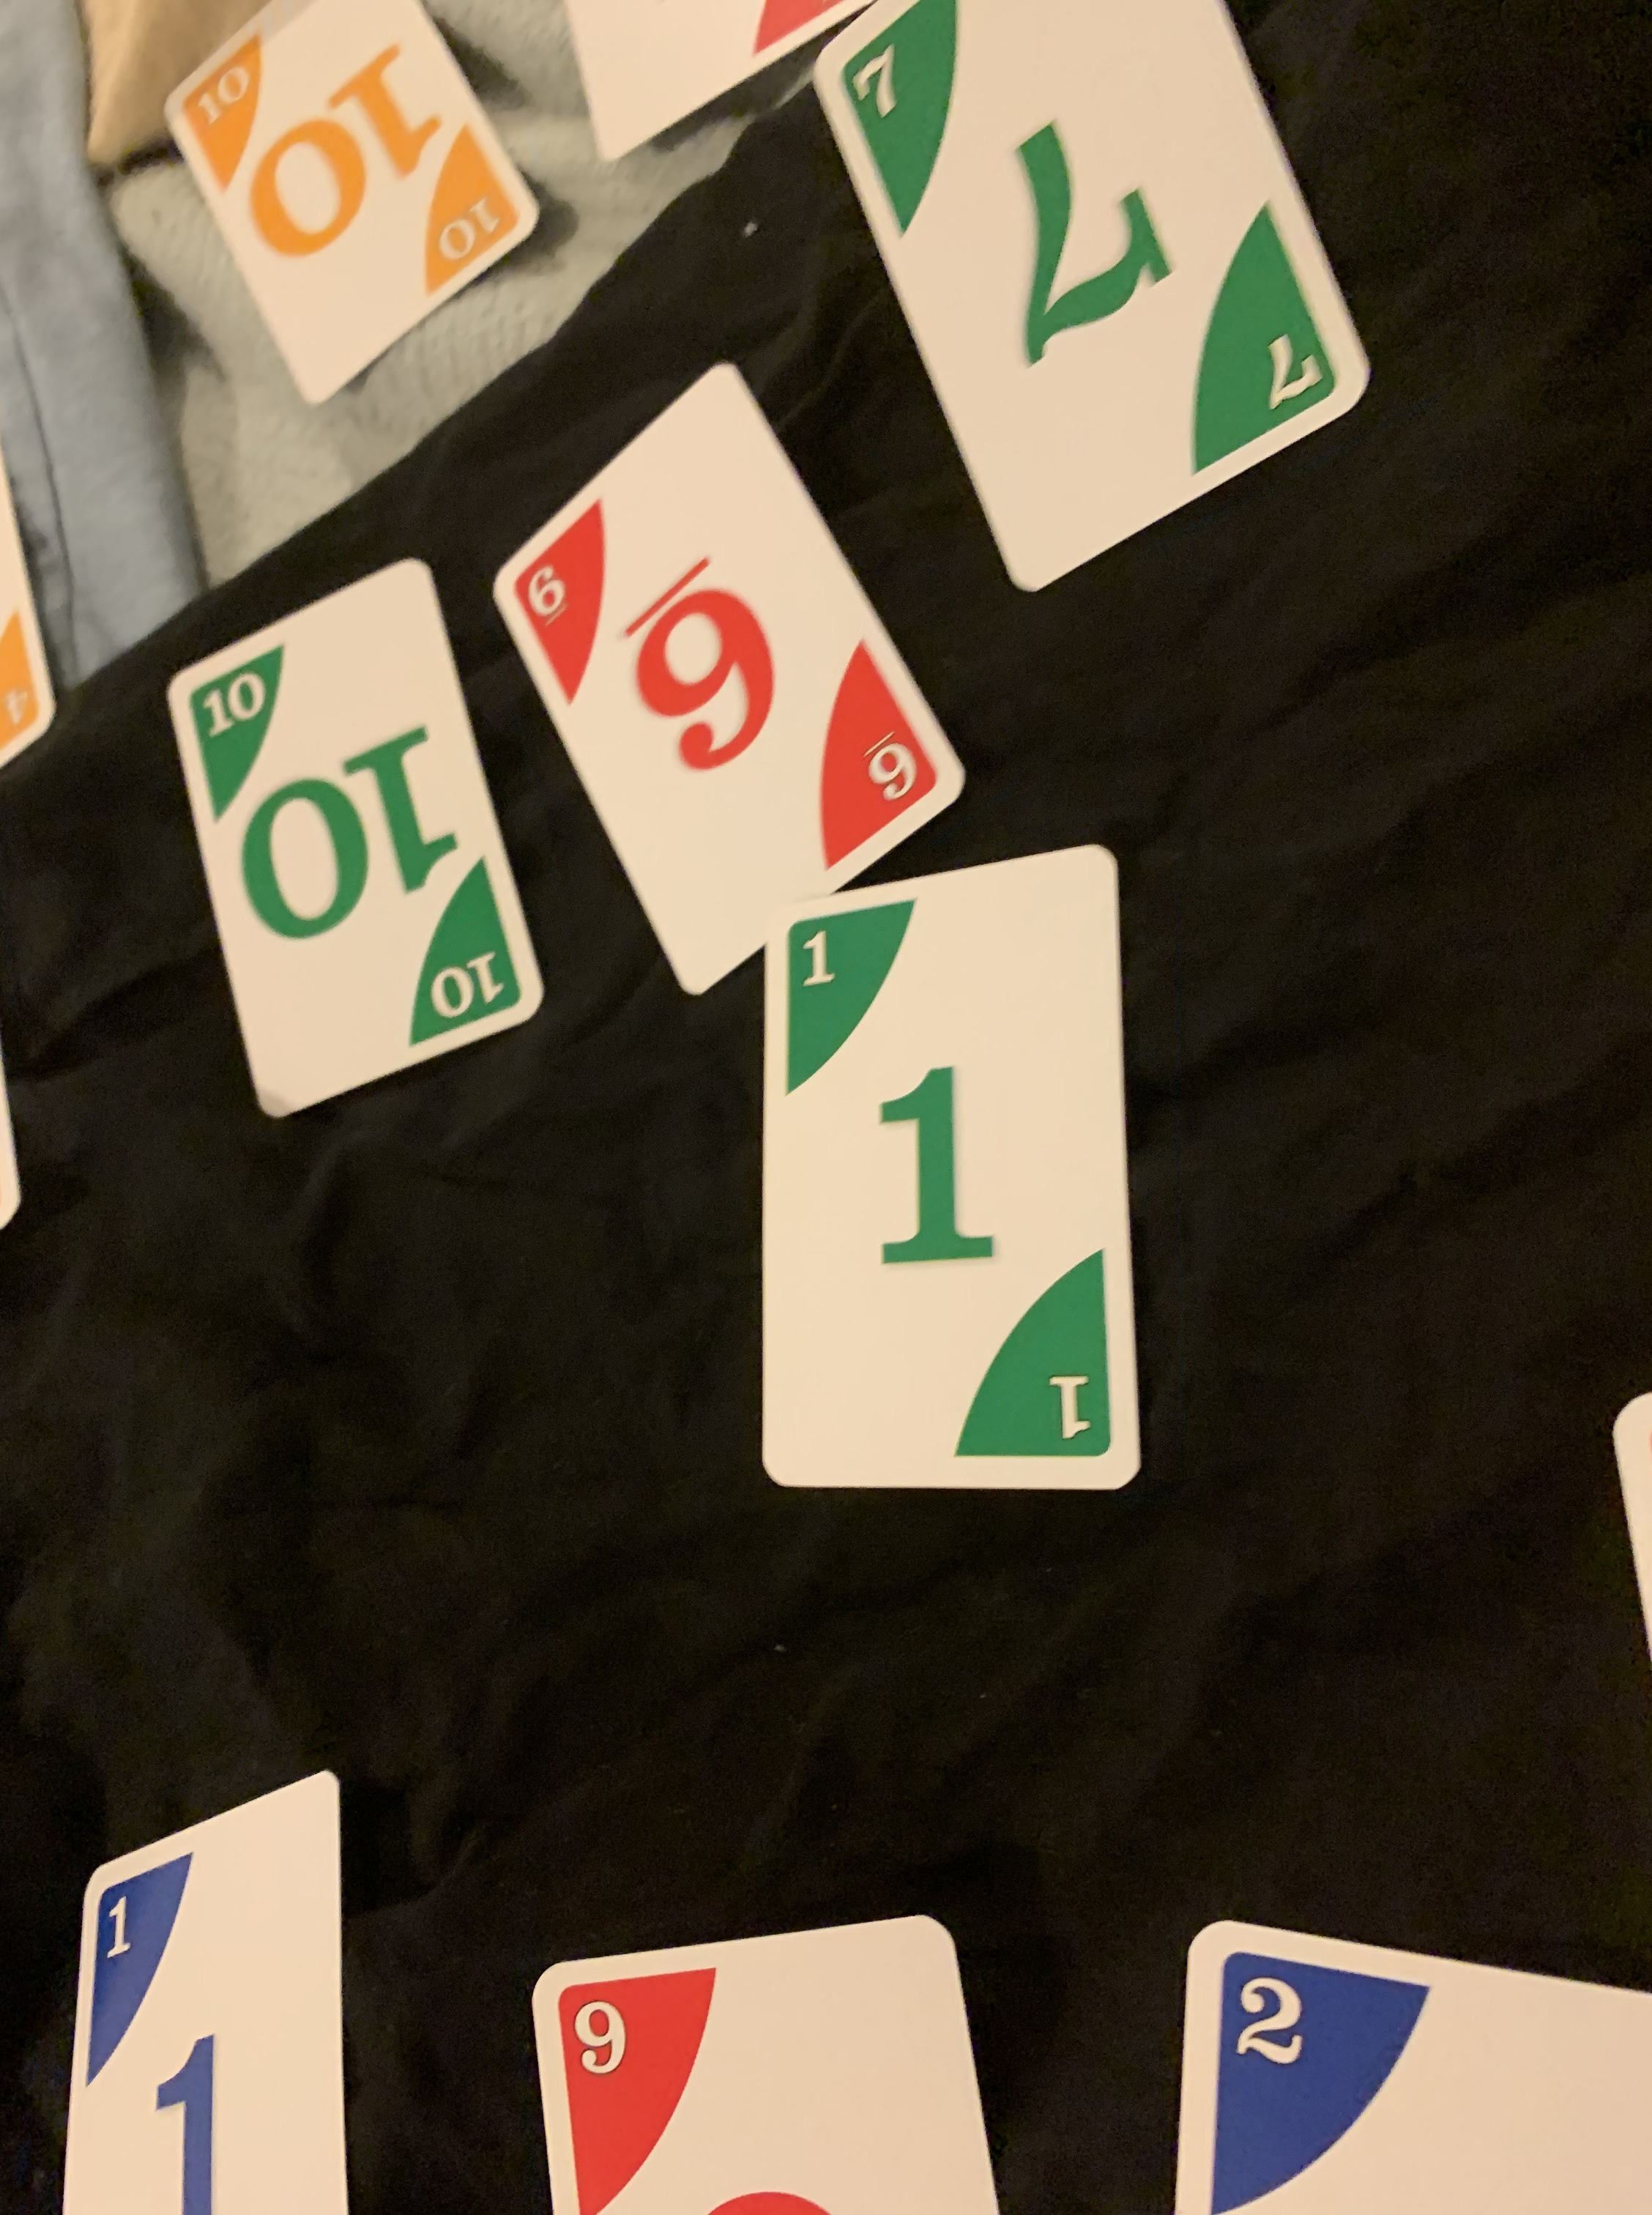one: (731, 837, 1161, 1538), (62, 1771, 354, 2215)
seven: (814, 0, 1381, 637)
ten: (146, 559, 543, 1116), (168, 0, 538, 406)
